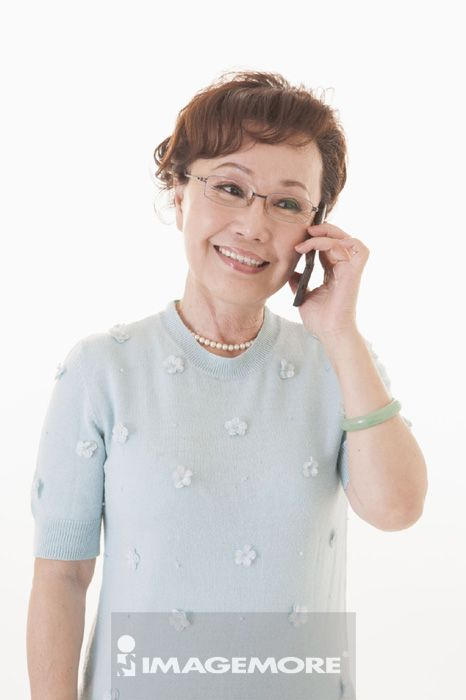phone: (296, 200, 328, 311)
talk: (188, 156, 368, 348)
